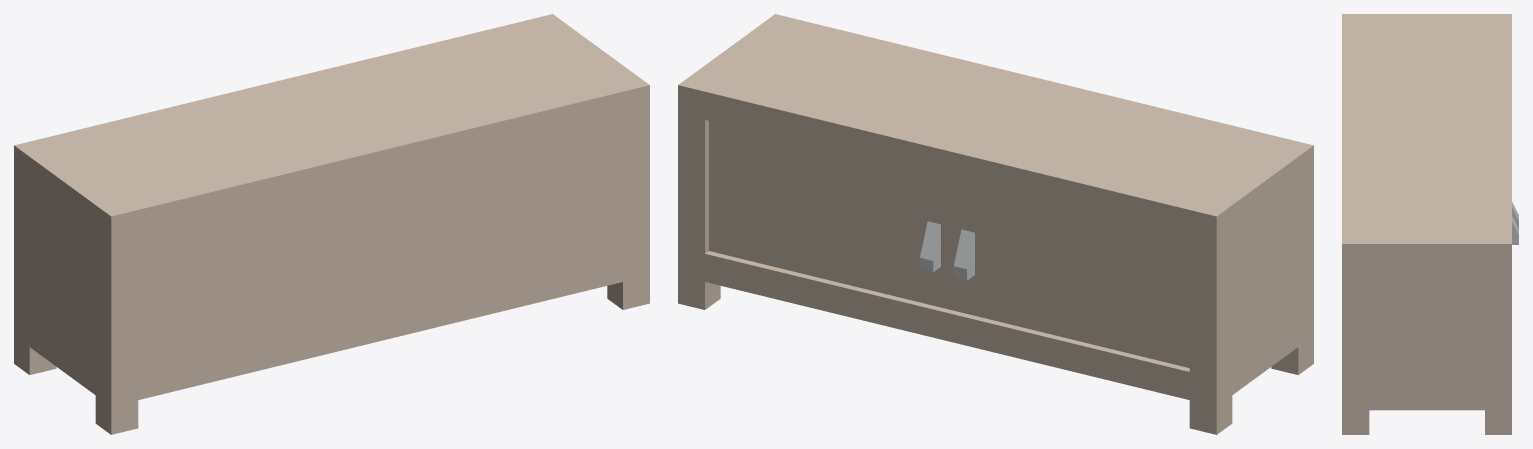
File: furn_cabinetTelevisionDoors.glb
3 renders of one model, left to right at view 1: azimuth 30°, elevation 25°; view 2: azimuth 150°, elevation 25°; view 3: azimuth 270°, elevation 25°, orthographic. The views are drawn at different scales.
Size of the model in its own units: 1.6 by 0.62 by 0.52.
